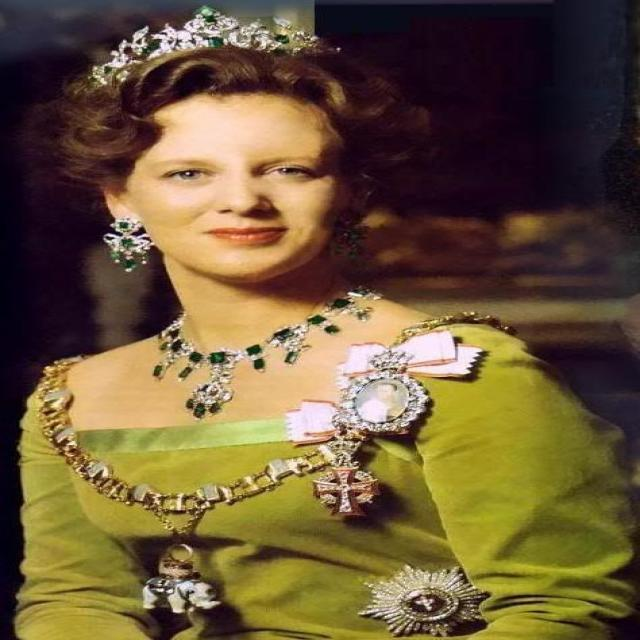Earring: (96, 210, 164, 284), (320, 212, 378, 282)
